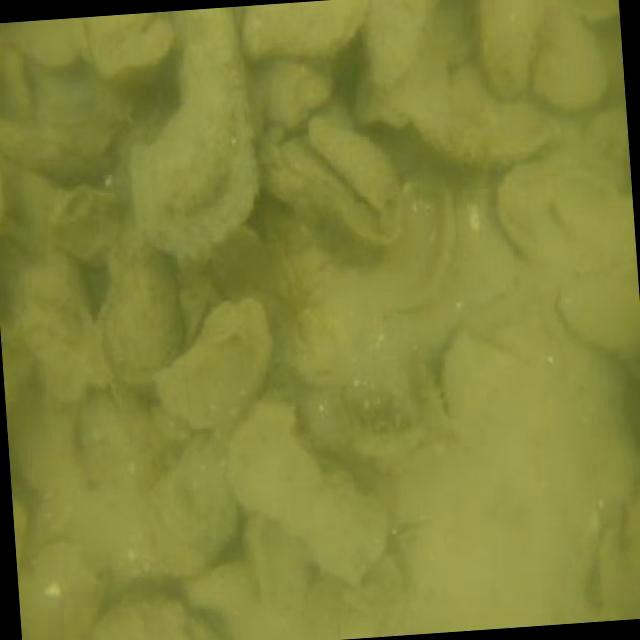Oyster-Closed: (132, 9, 257, 259), (225, 405, 386, 580), (393, 60, 552, 167), (266, 133, 400, 241), (145, 439, 234, 575), (21, 255, 102, 400), (103, 246, 179, 380), (557, 257, 640, 360), (18, 544, 107, 640), (361, 0, 438, 100), (310, 121, 398, 208), (440, 329, 509, 439), (253, 48, 346, 126), (532, 15, 605, 109), (243, 1, 368, 55), (475, 0, 536, 98), (94, 597, 216, 640), (52, 182, 118, 256), (101, 15, 170, 73), (585, 106, 628, 187), (13, 21, 79, 64), (625, 499, 640, 563)
Oyster-Open: (384, 169, 454, 300)
